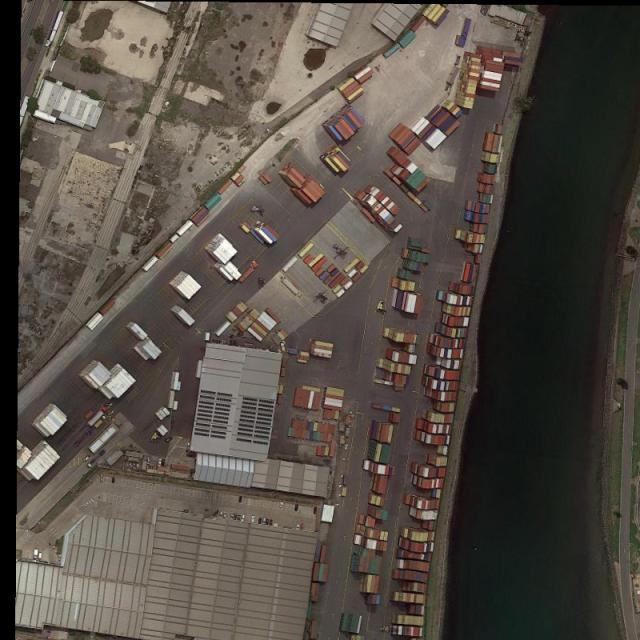vehicle: (86, 406, 108, 427), (166, 436, 173, 443), (83, 455, 90, 462), (33, 549, 38, 558), (313, 506, 318, 515), (158, 458, 162, 468), (262, 517, 266, 526), (162, 458, 166, 467), (38, 550, 42, 559), (279, 501, 284, 508), (242, 514, 246, 522), (234, 511, 238, 519), (230, 511, 234, 519), (266, 518, 270, 526), (294, 504, 298, 512), (251, 515, 255, 522), (258, 518, 262, 525), (296, 522, 300, 529), (219, 510, 222, 518), (111, 477, 115, 483), (238, 496, 242, 502), (224, 512, 227, 519), (270, 519, 273, 526)
